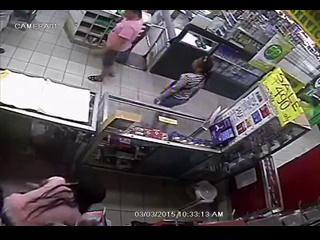Normal: (1, 162, 109, 226), (88, 10, 146, 82), (154, 56, 214, 108)
